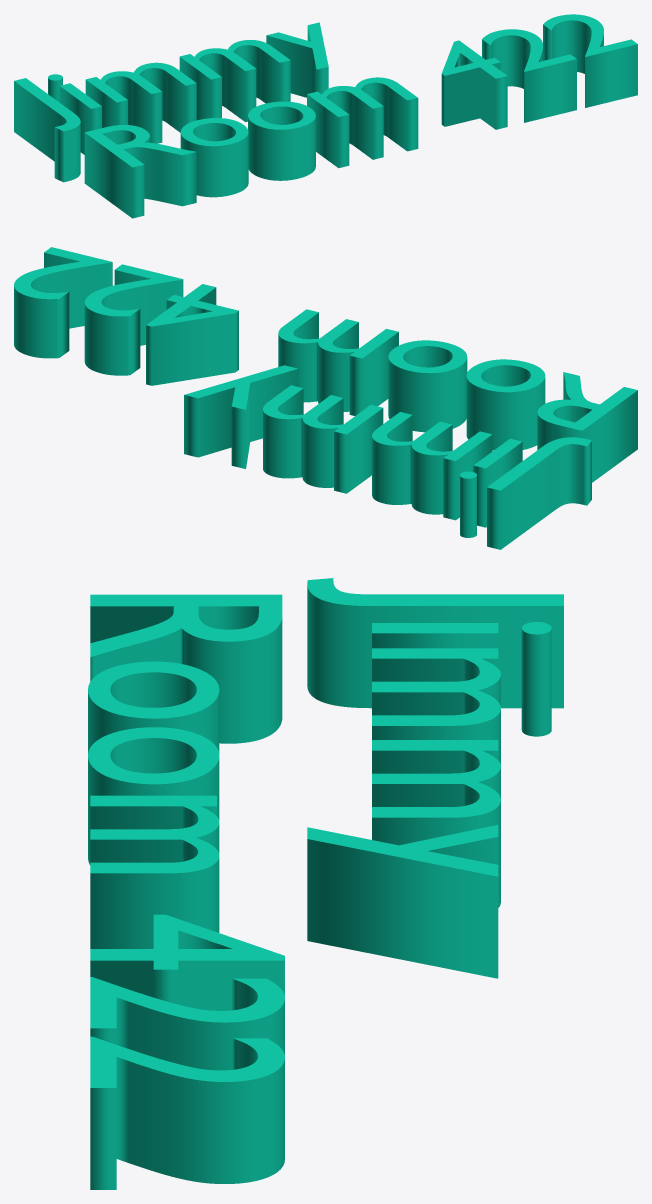
Rendered from jimmy-422.gltf.
3 renders of one model, top to bottom at view 1: azimuth 30°, elevation 25°; view 2: azimuth 150°, elevation 25°; view 3: azimuth 270°, elevation 25°, orthographic. The views are drawn at different scales.
Visible parts, largest first — view 1: Text; view 2: Text; view 3: Text.
Part boxes in pixels (x1,y1,x2,y2): Text: [14, 14, 637, 218]; Text: [14, 247, 637, 549]; Text: [88, 578, 563, 1189].
Bounding box in the file's own units: 4.29 × 0.4 × 1.69.
